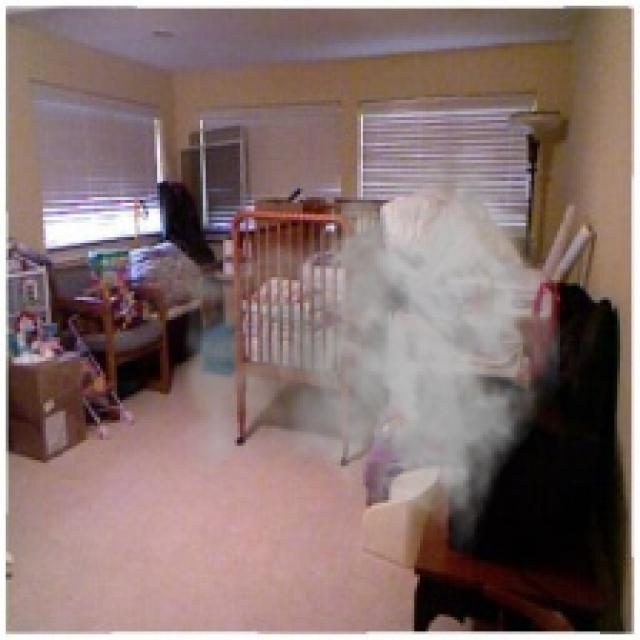smoke: (146, 140, 563, 557)
